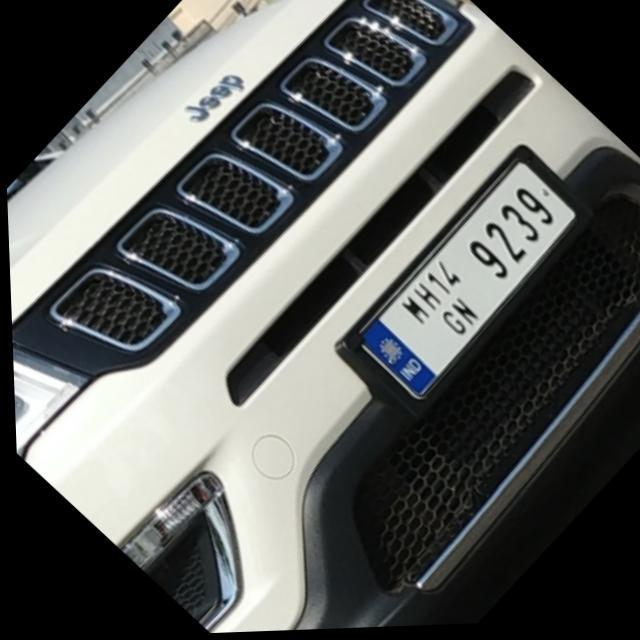license_plate: (346, 158, 588, 401)
